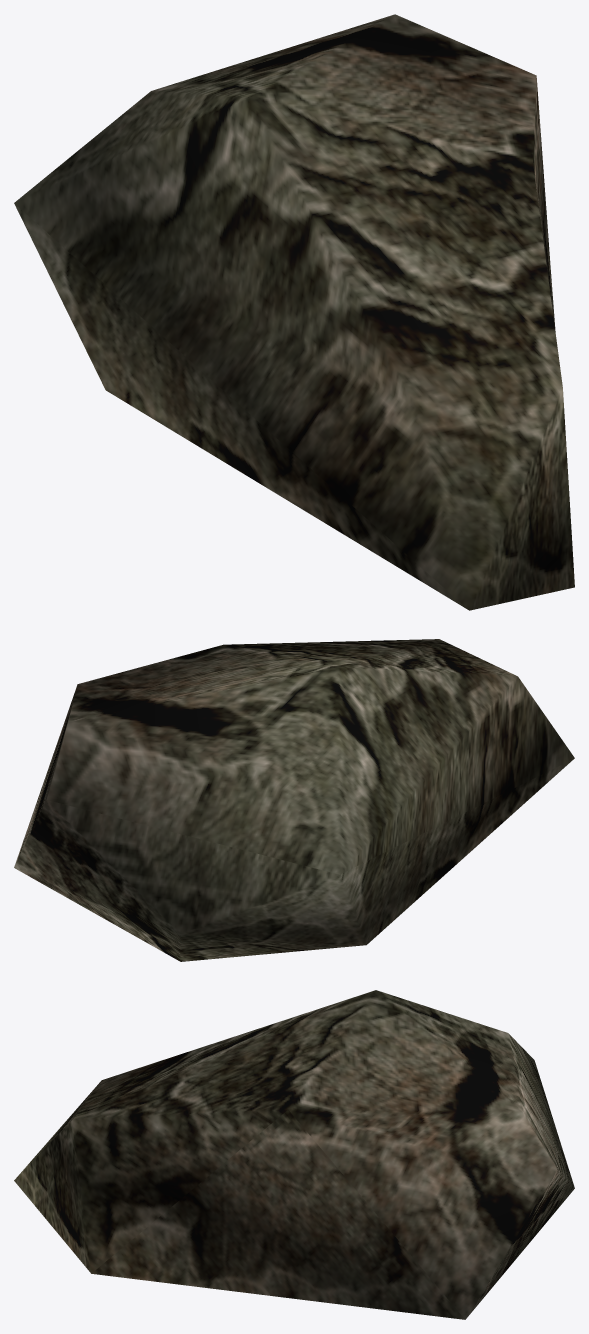
Rendered from MEP_Stones_01_b.fbx.
3 views of the same model, one above another, from view 1: azimuth 30°, elevation 25°; view 2: azimuth 150°, elevation 25°; view 3: azimuth 270°, elevation 25° (orthographic). The views are drawn at different scales.
Parts seen in each view (by area): view 1: MEP_Stone_01_b; view 2: MEP_Stone_01_b; view 3: MEP_Stone_01_b.
Part boxes in pixels (x1=…): MEP_Stone_01_b: x1=14, y1=14, x2=574, y2=610; MEP_Stone_01_b: x1=14, y1=639, x2=574, y2=961; MEP_Stone_01_b: x1=14, y1=990, x2=574, y2=1319.
Bounding box in the file's own units: 0.8898 × 0.6608 × 1.32.
